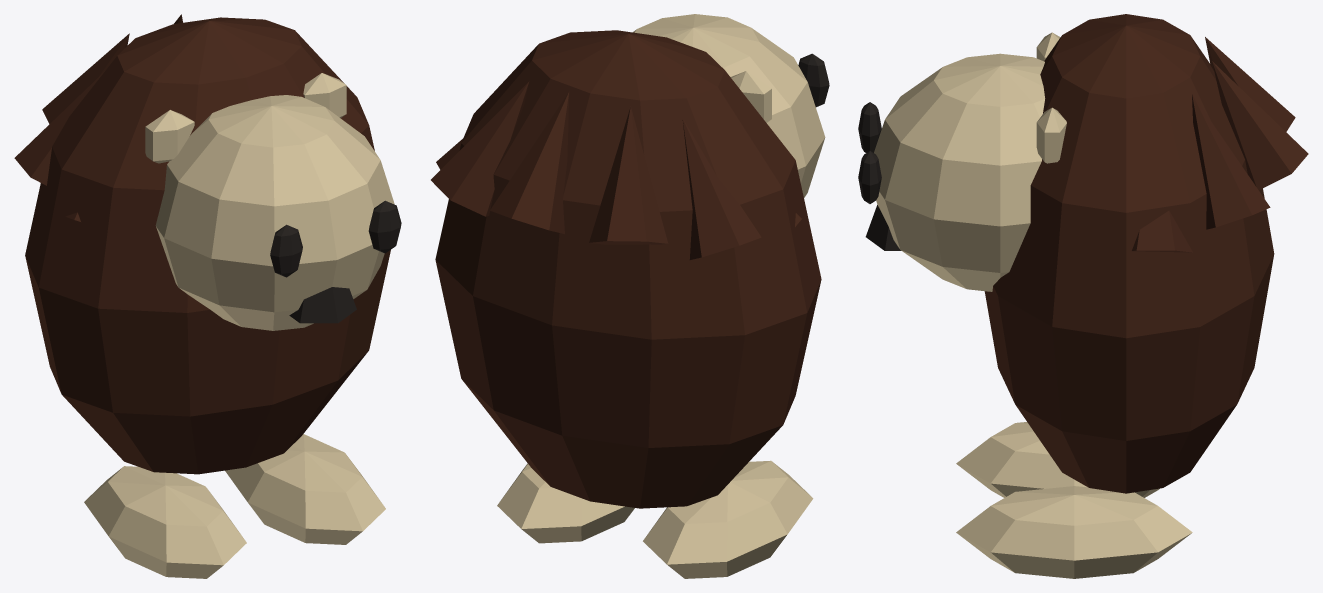
File: hedgehog.glb
The picture shows the model from 3 angles, left to right: view 1: azimuth 30°, elevation 25°; view 2: azimuth 150°, elevation 25°; view 3: azimuth 270°, elevation 25°; orthographic projection. The views are drawn at different scales.
Visible parts, largest first — view 1: Body_mesh; view 2: Body_mesh; view 3: Body_mesh.
Boxes of the visible parts, x1,y1,x2,y2 form: Body_mesh: (14,14,401,578); Body_mesh: (431,14,829,578); Body_mesh: (858,14,1308,578).
Size of the model in its own units: 0.27 by 0.38 by 0.3043.
